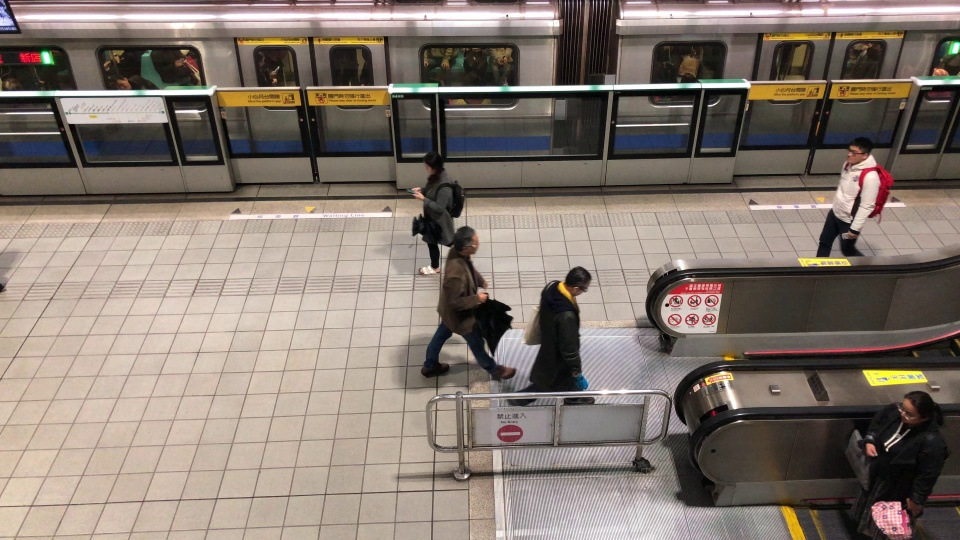person_head: (895, 385, 938, 430), (838, 127, 873, 179), (411, 151, 448, 189), (558, 266, 596, 300), (454, 226, 480, 260)
person_vbox: (824, 385, 945, 540), (415, 227, 518, 395), (793, 126, 893, 266), (518, 264, 601, 413), (399, 150, 470, 273)
